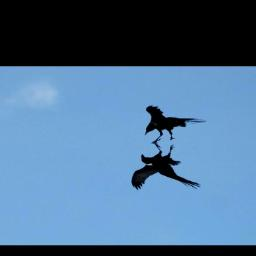Crow: (130, 140, 203, 191)
